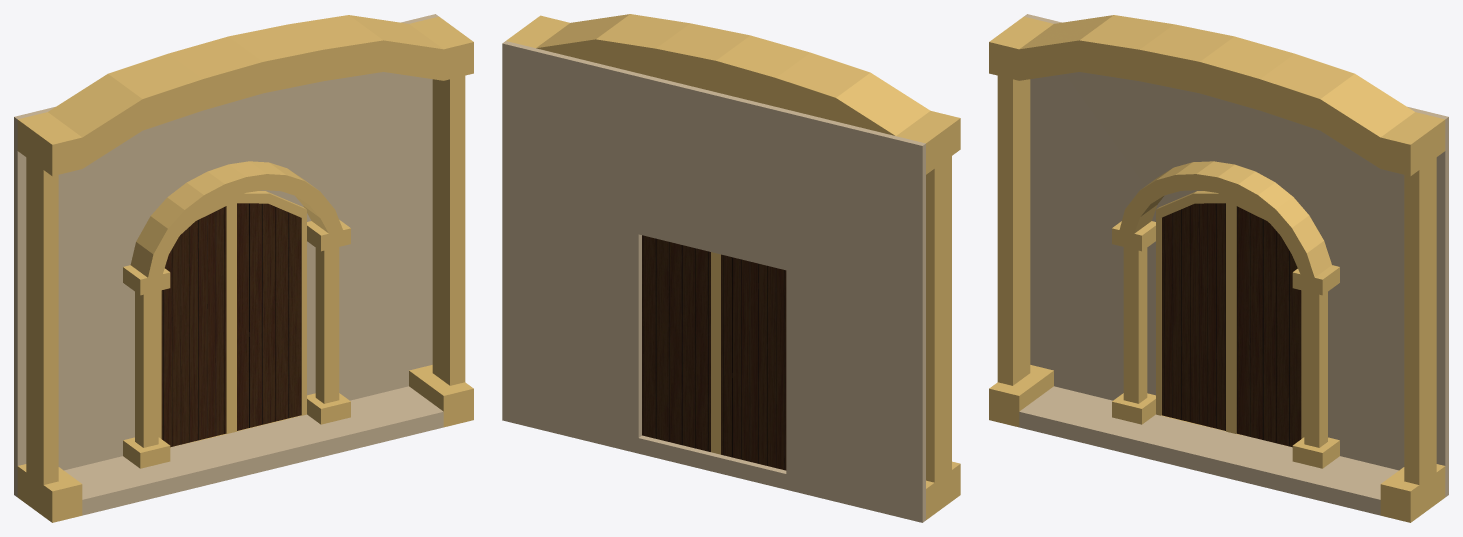
Rendered from Door.fbx.
3 renders of one model, left to right at view 1: azimuth 30°, elevation 25°; view 2: azimuth 150°, elevation 25°; view 3: azimuth 330°, elevation 25°, orthographic.
Visible parts, largest first — view 1: Door No details.001; view 2: Door No details.001; view 3: Door No details.001.
Boxes of the visible parts, x1,y1,x2,y2 form: Door No details.001: (14,14,473,522); Door No details.001: (502,14,960,522); Door No details.001: (989,14,1448,522).
Bounding box in the file's own units: 1400 × 1300 × 220.
